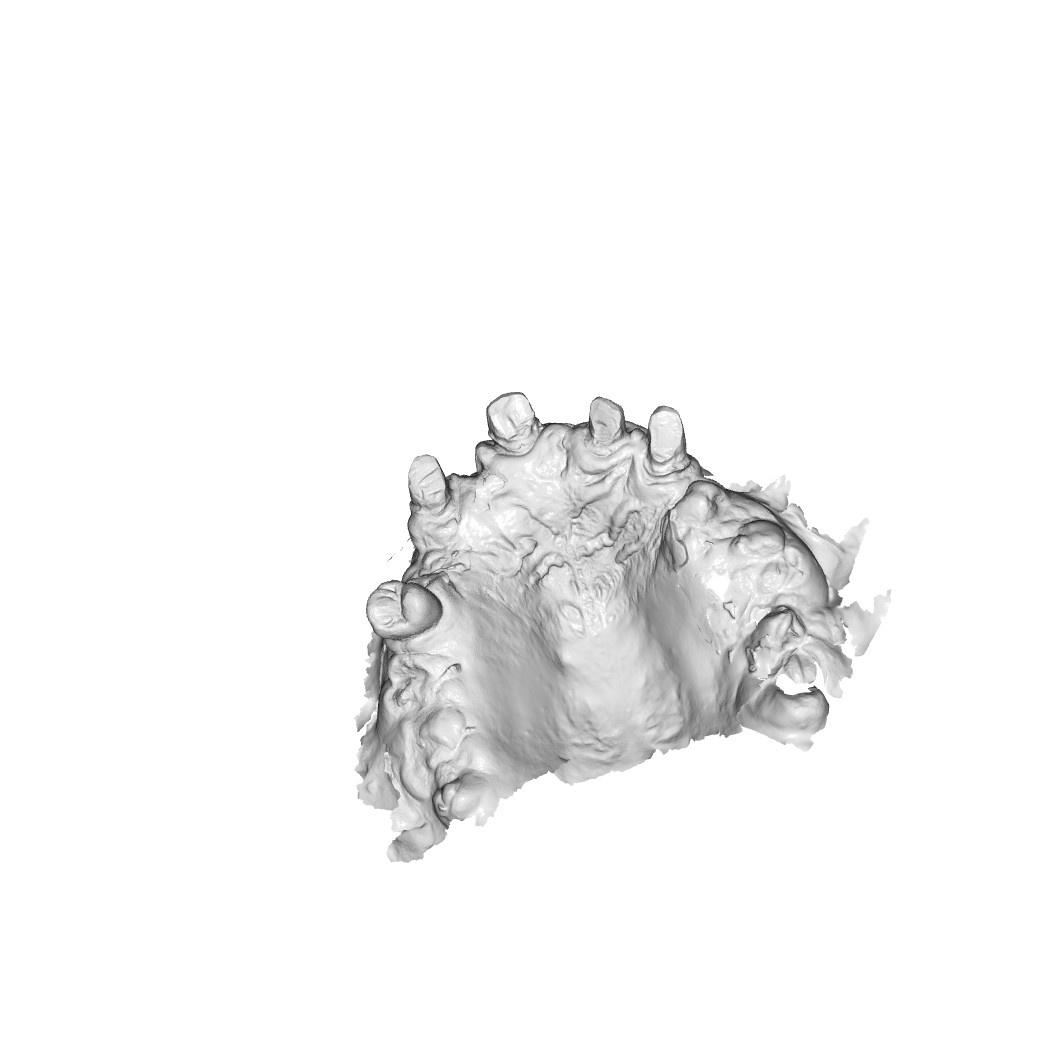crown: (491, 388, 541, 456), (409, 450, 459, 507), (585, 394, 629, 447), (651, 405, 691, 459)
premolar: (367, 579, 442, 640)
